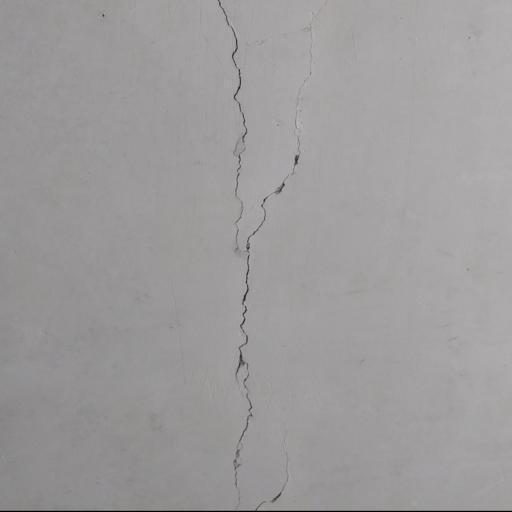minor_crack: (202, 0, 326, 512)
